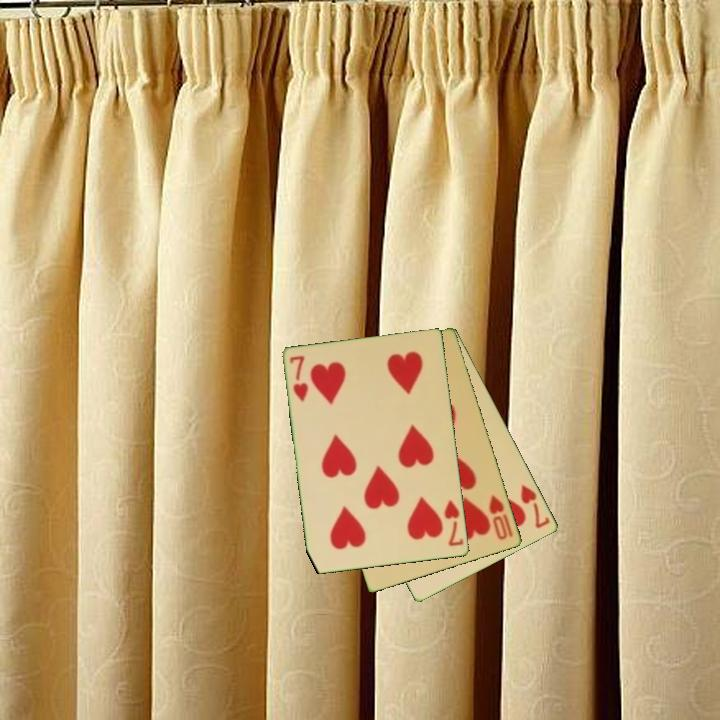10h: (486, 492, 516, 543)
7h: (518, 481, 553, 532), (441, 496, 467, 549), (286, 352, 311, 405)
